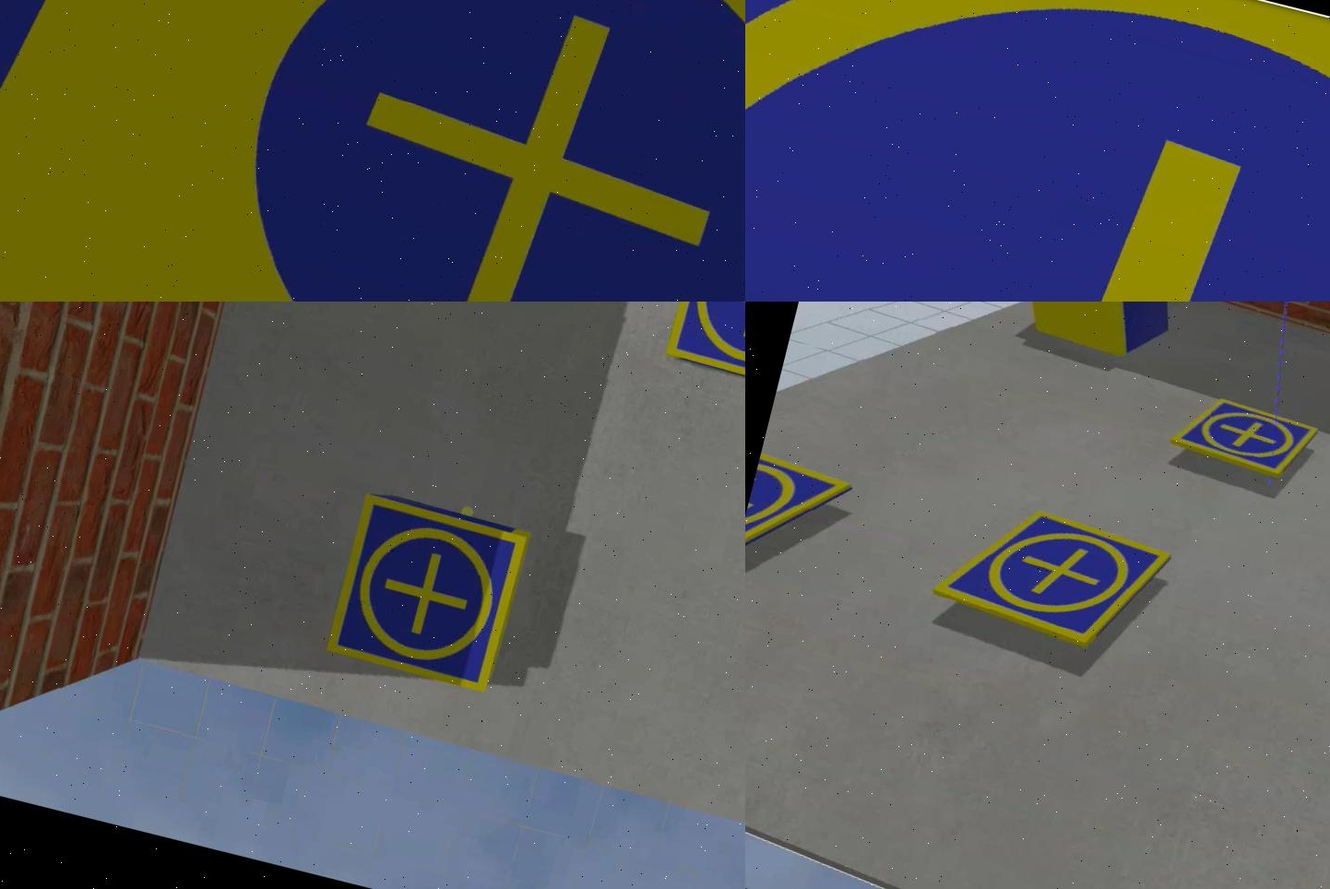large_base: (0, 1, 744, 302)
small_base: (744, 1, 1328, 302), (323, 492, 531, 698), (926, 493, 1170, 660), (1168, 391, 1319, 483), (744, 454, 856, 571), (665, 302, 744, 393), (1023, 302, 1173, 306)
